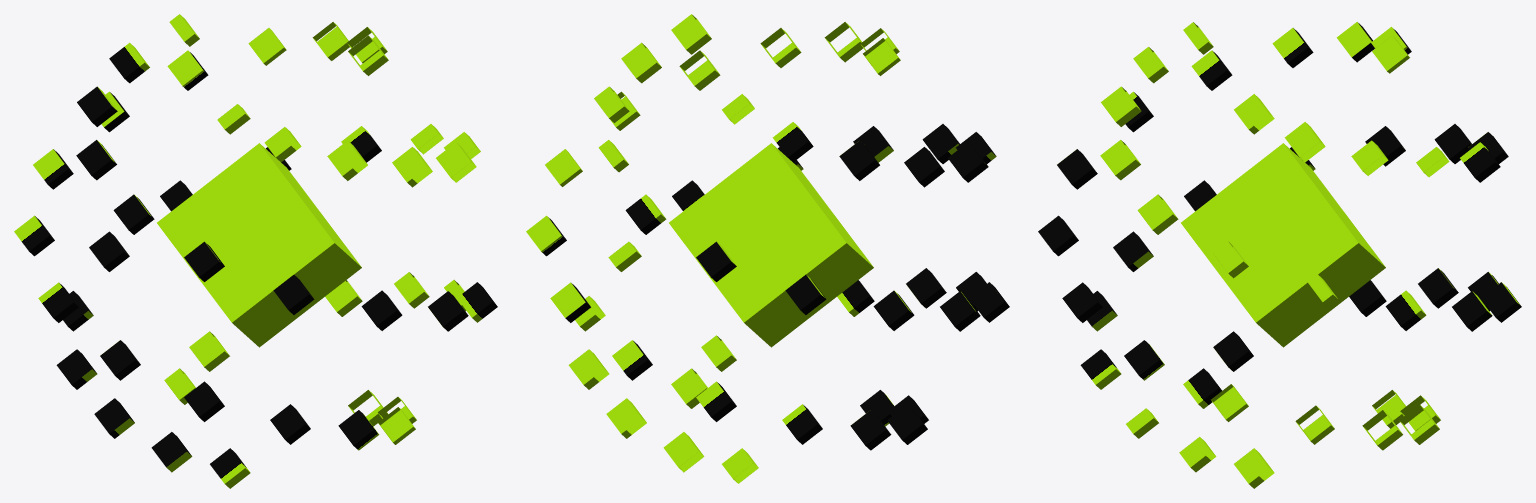
File: spell1.obj
3 renders of one model, left to right at view 1: azimuth 30°, elevation 25°; view 2: azimuth 150°, elevation 25°; view 3: azimuth 270°, elevation 25°, orthographic.
Visible parts, largest first — view 1: main, a.014, c.007, c.006, b.004, b.006, c.004, a.002, a.004, b.009, b.011, c.009 (+29 smaller); view 2: main, b.006, b.007, c.014, b.004, a.009, a.011, a.013, b.000, b.009, b.011, c.001 (+28 smaller); view 3: main, a.007, a.004, c.003, c.004, c.006, a.009, a.011, b.001, b.004, b.012, c.009 (+29 smaller).
Part boxes in pixels (left/top/right/bottom): main: left=157, top=143, right=361, bottom=347; a.014: left=151, top=432, right=192, bottom=472; c.007: left=361, top=290, right=402, bottom=330; c.006: left=273, top=275, right=314, bottom=314; b.004: left=167, top=50, right=208, bottom=90; b.006: left=33, top=149, right=73, bottom=189; c.004: left=113, top=194, right=154, bottom=234; a.002: left=327, top=140, right=367, bottom=180; a.004: left=436, top=142, right=476, bottom=182; b.009: left=100, top=340, right=140, bottom=380; b.011: left=270, top=404, right=310, bottom=444; c.009: left=457, top=282, right=497, bottom=322; main: left=669, top=143, right=873, bottom=347; b.006: left=785, top=274, right=826, bottom=314; b.007: left=873, top=290, right=914, bottom=330; c.014: left=663, top=432, right=704, bottom=472; b.004: left=625, top=194, right=666, bottom=234; a.009: left=612, top=340, right=652, bottom=380; a.011: left=782, top=404, right=822, bottom=444; a.013: left=887, top=404, right=927, bottom=444; b.000: left=671, top=14, right=711, bottom=54; b.009: left=969, top=282, right=1009, bottom=322; b.011: left=906, top=268, right=946, bottom=308; c.001: left=772, top=122, right=813, bottom=162; main: left=1181, top=143, right=1385, bottom=347; a.007: left=1385, top=290, right=1426, bottom=330; a.004: left=1137, top=194, right=1178, bottom=234; c.003: left=1272, top=28, right=1313, bottom=67; c.004: left=1191, top=50, right=1232, bottom=90; c.006: left=1057, top=149, right=1097, bottom=189; a.009: left=1481, top=282, right=1521, bottom=322; a.011: left=1418, top=268, right=1458, bottom=308; b.001: left=1284, top=122, right=1325, bottom=162; b.004: left=1460, top=142, right=1500, bottom=182; b.012: left=1080, top=349, right=1121, bottom=389; c.009: left=1124, top=340, right=1164, bottom=380.
Size of the model in its own units: 1.07 by 0.966 by 1.07.
